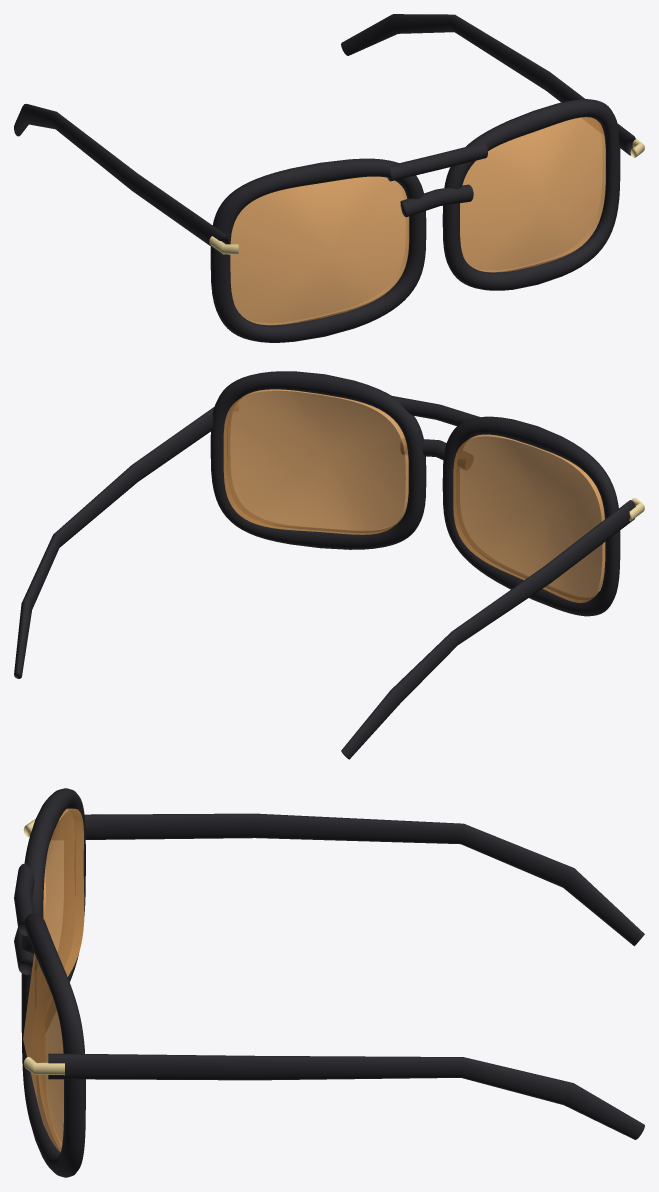
The model's file is oculos-02-navigator-ambar.glb.
3 views of the same model, one above another, from view 1: azimuth 30°, elevation 25°; view 2: azimuth 150°, elevation 25°; view 3: azimuth 270°, elevation 25° (orthographic). The views are drawn at different scales.
Visible parts, largest first — view 1: M02_Lens_L, M02_Lens_R, M02_Rim_L, M02_Rim_R, TempleAcetate_R, TempleAcetate_L, M02_Bridge_TopBar, M02_Bridge_Main; view 2: M02_Lens_R, M02_Lens_L, M02_Rim_R, M02_Rim_L, TempleAcetate_L, TempleAcetate_R, M02_Bridge_TopBar; view 3: TempleAcetate_R, TempleAcetate_L, M02_Rim_R, M02_Lens_L, M02_Lens_R, M02_Rim_L, M02_Bridge_TopBar.
Boxes of the visible parts, left/top/right/bottom form: M02_Lens_L: left=230, top=176, right=409, bottom=325; M02_Lens_R: left=460, top=117, right=605, bottom=272; M02_Rim_L: left=210, top=158, right=426, bottom=342; M02_Rim_R: left=442, top=99, right=620, bottom=290; TempleAcetate_R: left=341, top=14, right=635, bottom=155; TempleAcetate_L: left=14, top=103, right=229, bottom=254; M02_Bridge_TopBar: left=387, top=143, right=487, bottom=181; M02_Bridge_Main: left=400, top=184, right=473, bottom=217; M02_Lens_R: left=223, top=389, right=408, bottom=534; M02_Lens_L: left=453, top=434, right=605, bottom=602; M02_Rim_R: left=210, top=371, right=426, bottom=549; M02_Rim_L: left=442, top=416, right=620, bottom=616; TempleAcetate_L: left=341, top=500, right=635, bottom=759; TempleAcetate_R: left=14, top=407, right=214, bottom=678; M02_Bridge_TopBar: left=392, top=396, right=480, bottom=425; TempleAcetate_R: left=48, top=1053, right=644, bottom=1139; TempleAcetate_L: left=84, top=813, right=644, bottom=946; M02_Rim_R: left=21, top=913, right=85, bottom=1177; M02_Lens_L: left=43, top=808, right=84, bottom=976; M02_Lens_R: left=23, top=953, right=63, bottom=1152; M02_Rim_L: left=24, top=788, right=85, bottom=981; M02_Bridge_TopBar: left=14, top=863, right=34, bottom=935.
Bounding box in the file's own units: 0.143 × 0.0561 × 0.1537.
